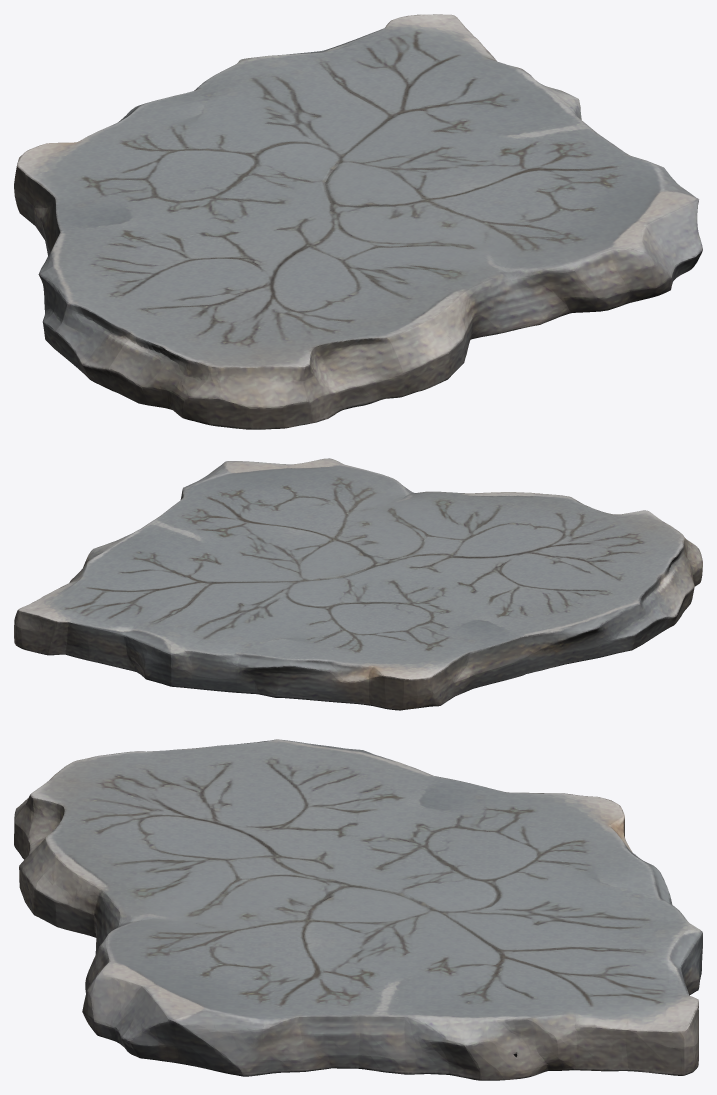
3 renders of one model, top to bottom at view 1: azimuth 30°, elevation 25°; view 2: azimuth 150°, elevation 25°; view 3: azimuth 270°, elevation 25°, orthographic. The views are drawn at different scales.
Visible parts, largest first — view 1: world; view 2: world; view 3: world.
Part boxes in pixels (x1=…): world: x1=14, y1=14, x2=702, y2=429; world: x1=14, y1=458, x2=702, y2=710; world: x1=14, y1=739, x2=702, y2=1080.
Bounding box in the file's own units: 0.2 × 0.0178 × 0.1919.
Materials: 1 (1 with a texture image).
